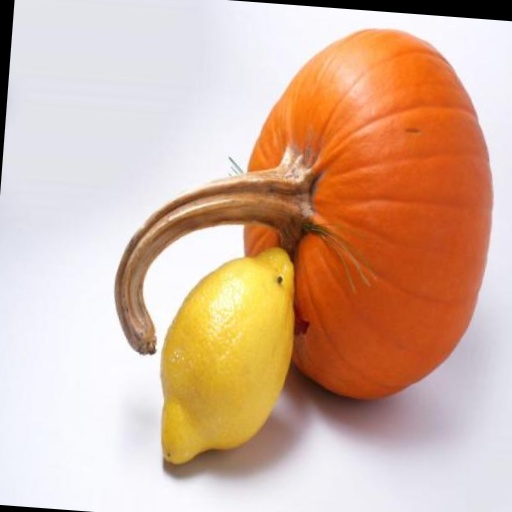fruit: (115, 30, 491, 397), (161, 248, 293, 463)
